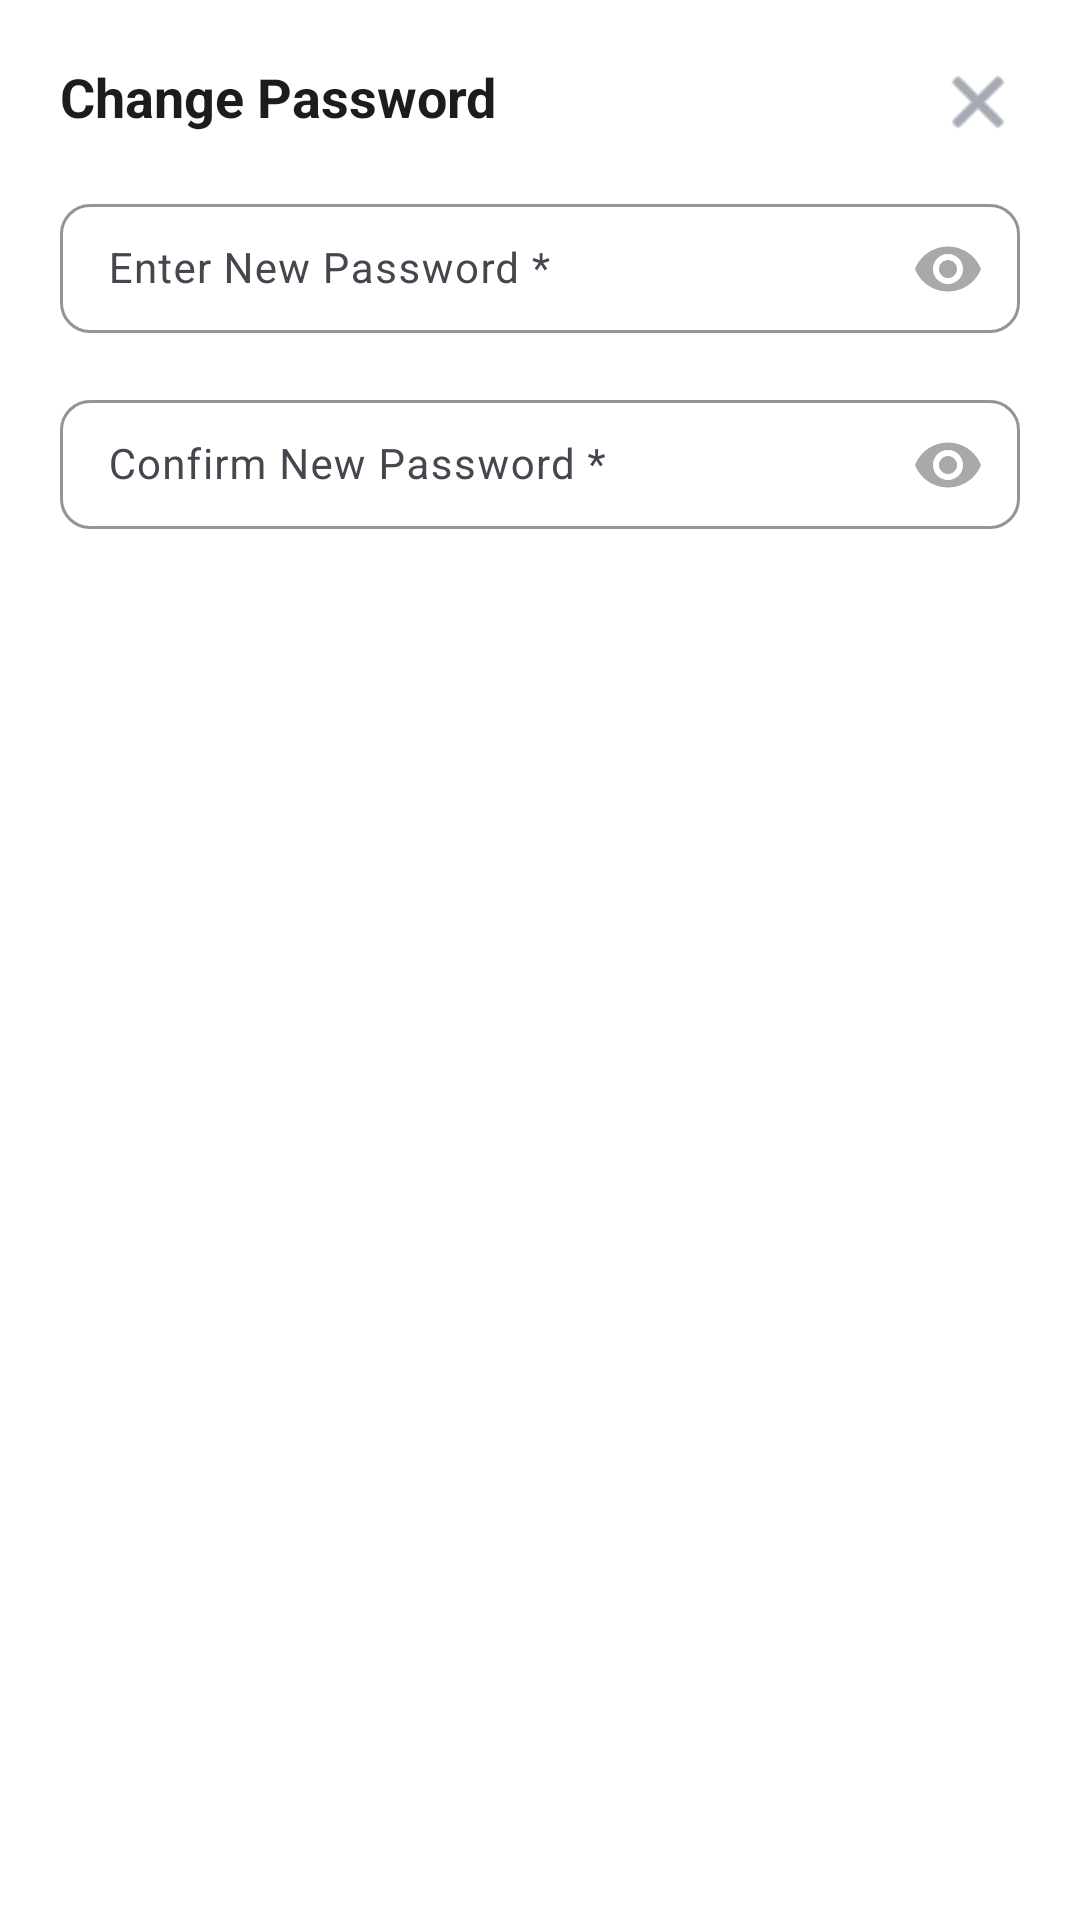

Point at icon controls on the screen. Image size 1080x1920, points as (x,y).
close clear cancel: (978,102)
